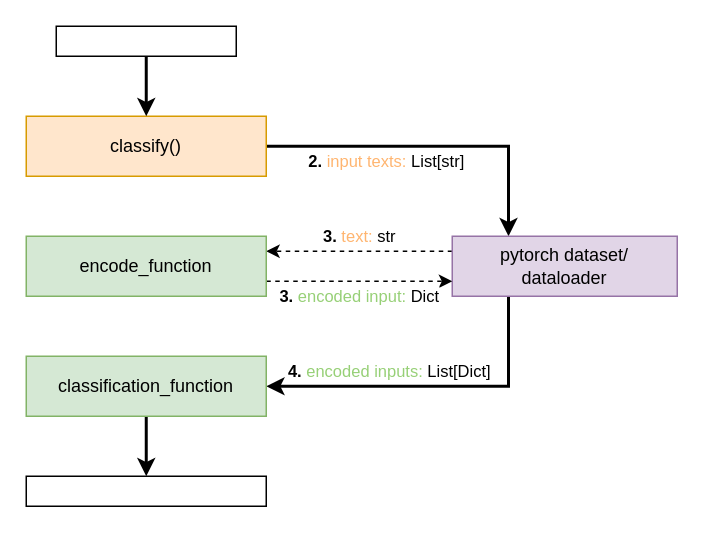
The diagram is 704 pixels wide and 533 high, and some of its shapes have lost their labels. The box of each missing label's shape, as (x1, y1, x2, y2) in pixels:
1. input texts: List[str]: (55, 25, 236, 56)
5. output predictions: List[int]: (25, 475, 266, 506)
